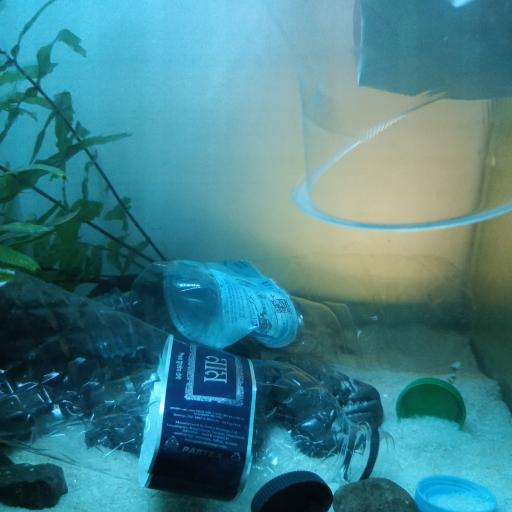bottle_cap: (252, 468, 333, 512), (413, 474, 498, 512), (398, 379, 464, 423)
plastic_bottle: (0, 265, 395, 501), (95, 258, 476, 373)
plastic_cup: (287, 0, 512, 234)
